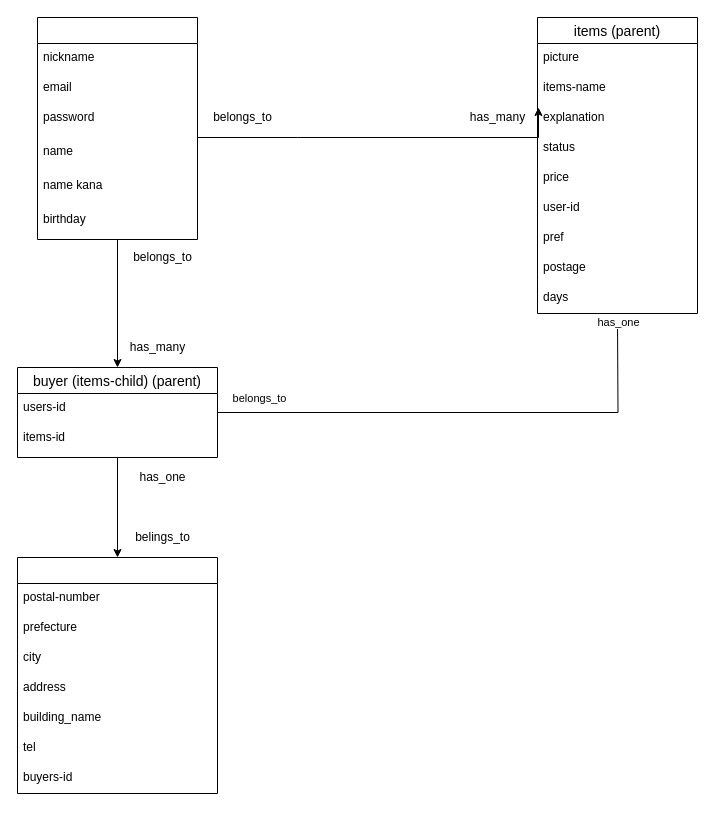
The diagram is 715 pixels wide and 814 high, and some of its shapes have lost their labels. The box of each missing label's shape, as (x1, y1, x2, y2) in pixels:
shipping-add (buyer-child): (16, 556, 218, 794)
users: (36, 16, 198, 240)
